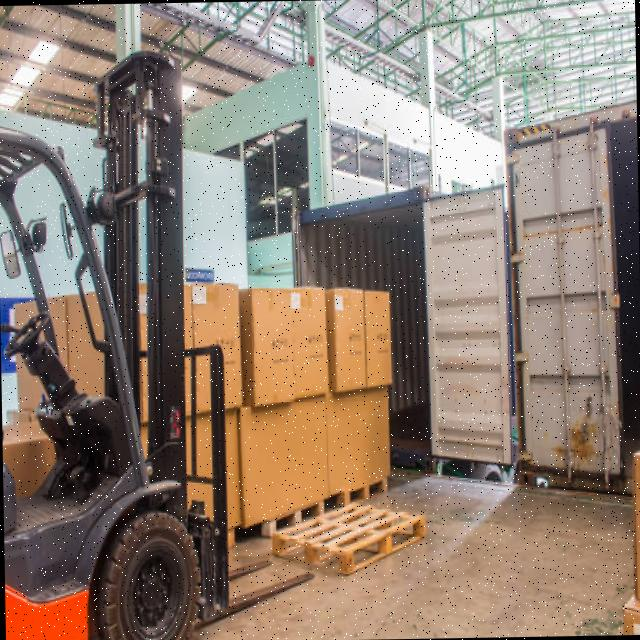Wooden-Pallets: (272, 491, 429, 574)
